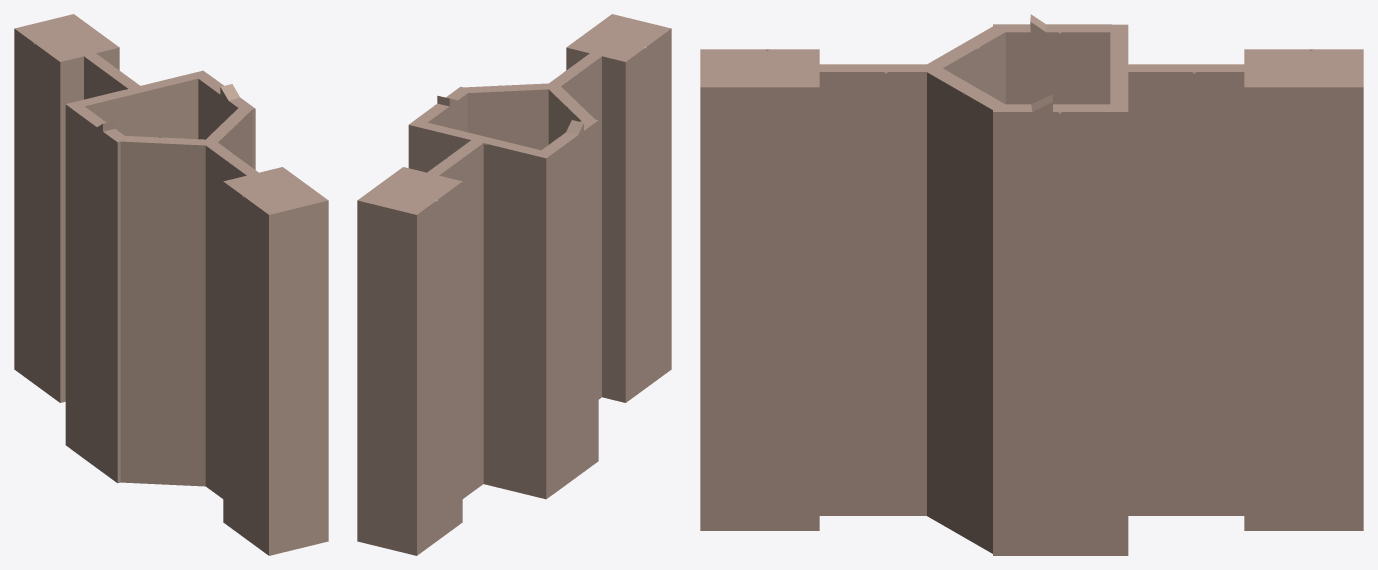
File: Nivel8.fbx
3 views of the same model, side by side, from view 1: azimuth 30°, elevation 25°; view 2: azimuth 150°, elevation 25°; view 3: azimuth 270°, elevation 25° (orthographic). The views are drawn at different scales.
Visible parts, largest first — view 1: Plataforma-M .026, Plataforma-M .030, Plataforma-M .034, Plataforma-M .028, Plataforma-M .033, Plataforma-M .027, Plataforma-M .029, Plataforma-M .031, Plataforma-M .032; view 2: Plataforma-M .034, Plataforma-M .026, Plataforma-M .033, Plataforma-M .028, Plataforma-M .032, Plataforma-M .031, Plataforma-M .027, Plataforma-M .030, Plataforma-M .029; view 3: Plataforma-M .026, Plataforma-M .034, Plataforma-M .029, Plataforma-M .032, Plataforma-M .027, Plataforma-M .031, Plataforma-M .033, Plataforma-M .028, Plataforma-M .030.
Part boxes in pixels (left/top/right/bottom): Plataforma-M .026: left=223, top=167, right=328, bottom=555; Plataforma-M .030: left=118, top=135, right=210, bottom=486; Plataforma-M .034: left=14, top=14, right=119, bottom=402; Plataforma-M .028: left=71, top=106, right=128, bottom=483; Plataforma-M .033: left=65, top=70, right=208, bottom=449; Plataforma-M .027: left=201, top=139, right=258, bottom=498; Plataforma-M .029: left=198, top=75, right=255, bottom=169; Plataforma-M .031: left=206, top=106, right=252, bottom=167; Plataforma-M .032: left=83, top=52, right=139, bottom=99; Plataforma-M .034: left=357, top=167, right=462, bottom=555; Plataforma-M .026: left=566, top=14, right=671, bottom=402; Plataforma-M .033: left=408, top=120, right=552, bottom=499; Plataforma-M .028: left=541, top=117, right=598, bottom=494; Plataforma-M .032: left=427, top=140, right=483, bottom=498; Plataforma-M .031: left=461, top=83, right=548, bottom=150; Plataforma-M .027: left=545, top=53, right=601, bottom=399; Plataforma-M .030: left=547, top=86, right=595, bottom=144; Plataforma-M .029: left=415, top=86, right=467, bottom=132; Plataforma-M .026: left=700, top=49, right=819, bottom=530; Plataforma-M .034: left=1244, top=49, right=1363, bottom=530; Plataforma-M .029: left=993, top=94, right=1112, bottom=555; Plataforma-M .032: left=1127, top=64, right=1246, bottom=515; Plataforma-M .027: left=819, top=64, right=938, bottom=515; Plataforma-M .031: left=927, top=68, right=1008, bottom=553; Plataforma-M .033: left=1110, top=24, right=1128, bottom=555; Plataforma-M .028: left=993, top=14, right=1112, bottom=104; Plataforma-M .030: left=927, top=25, right=1009, bottom=104.
Bounding box in the file's own units: 2817 × 6809 × 9008.
